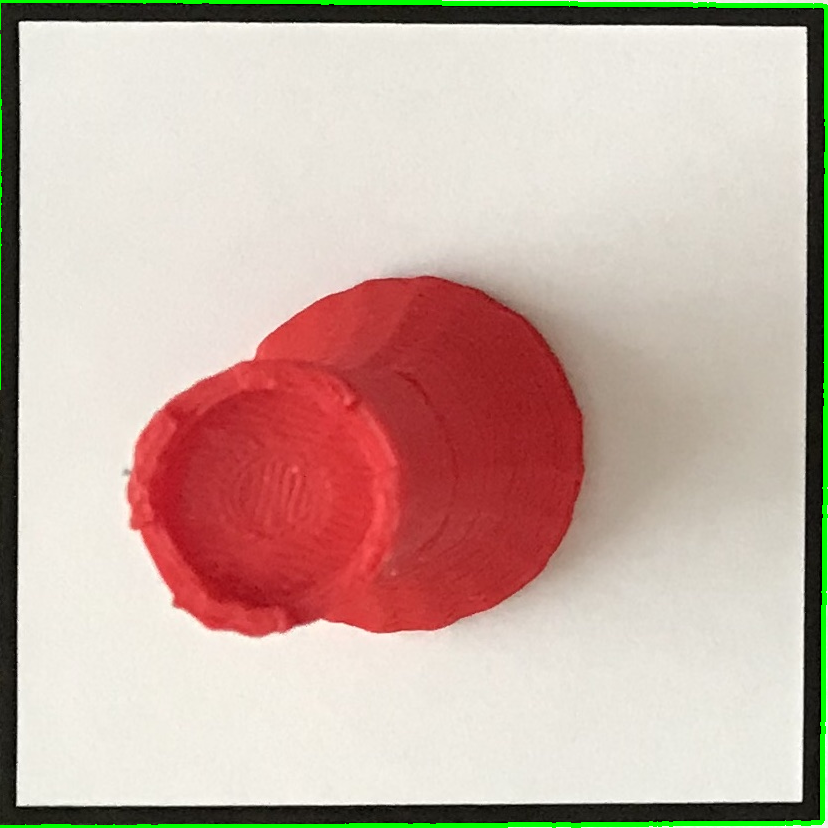Red Castle: (124, 263, 603, 662)
